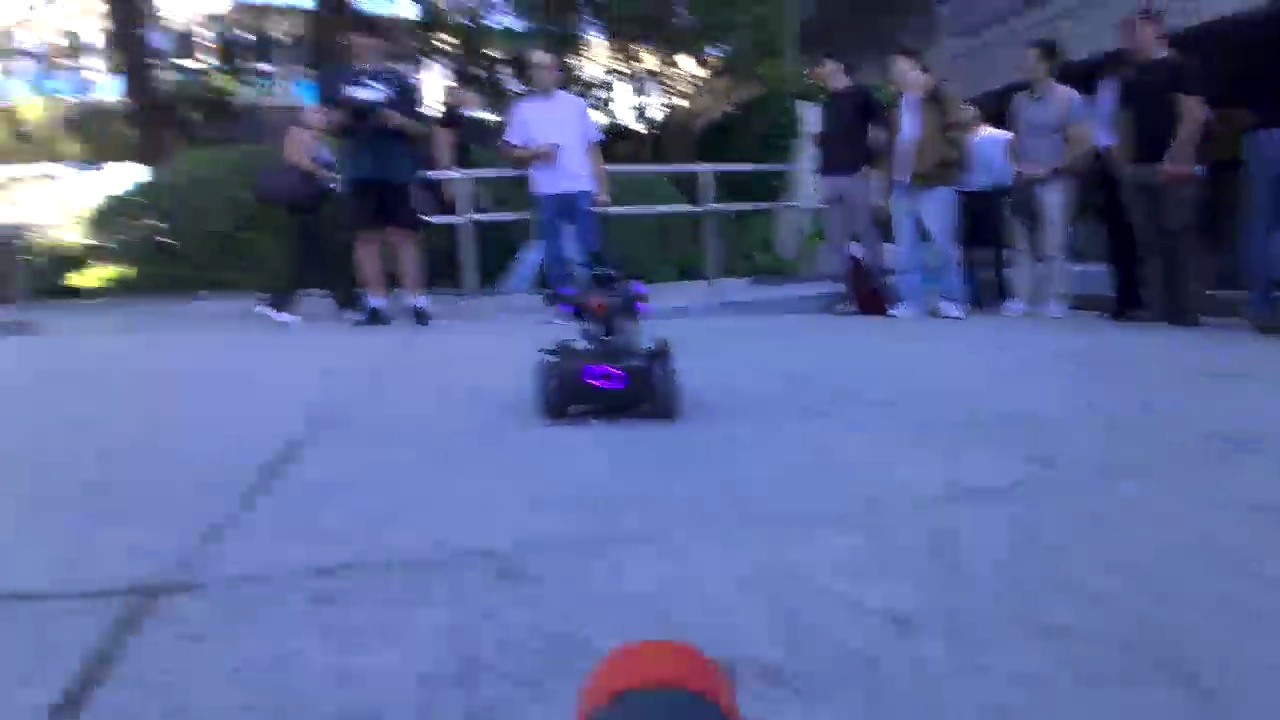robot: (528, 283, 709, 433)
